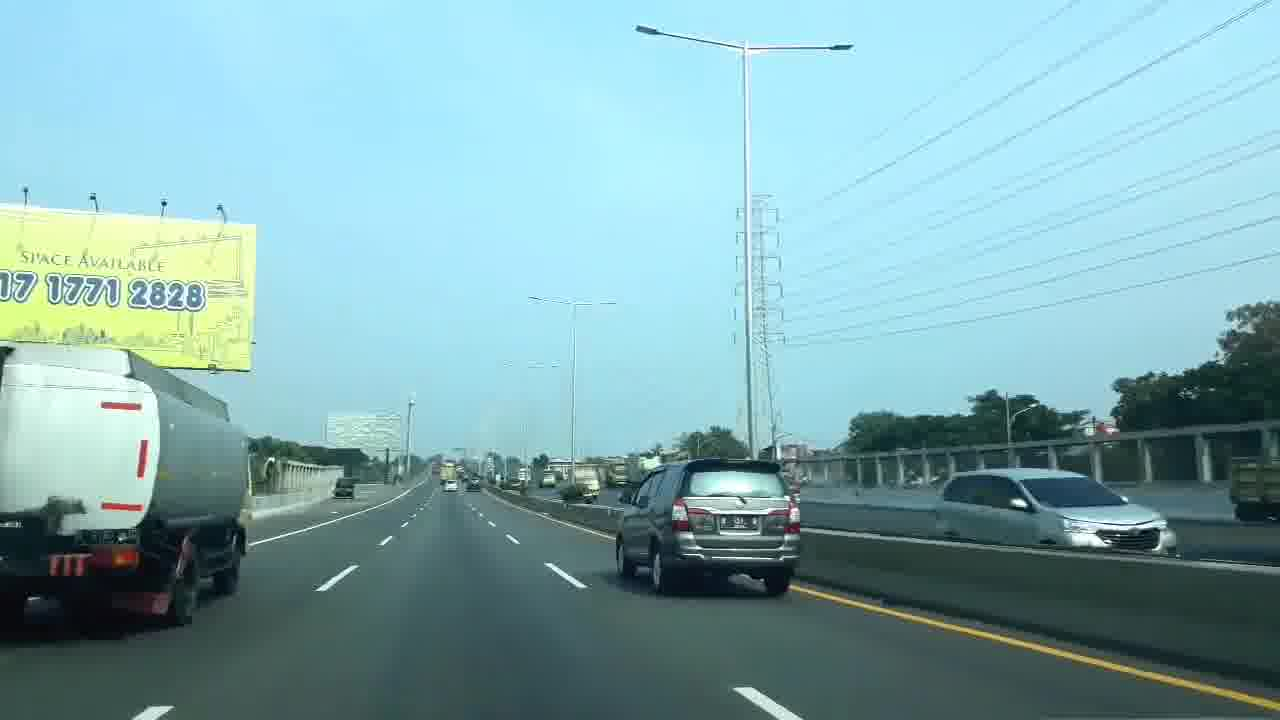plate_positive: (721, 515, 760, 531)
